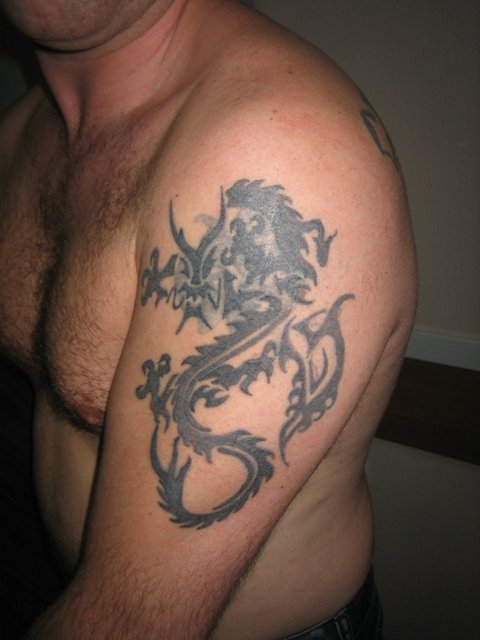tatu6_drakon: (119, 150, 365, 537)
